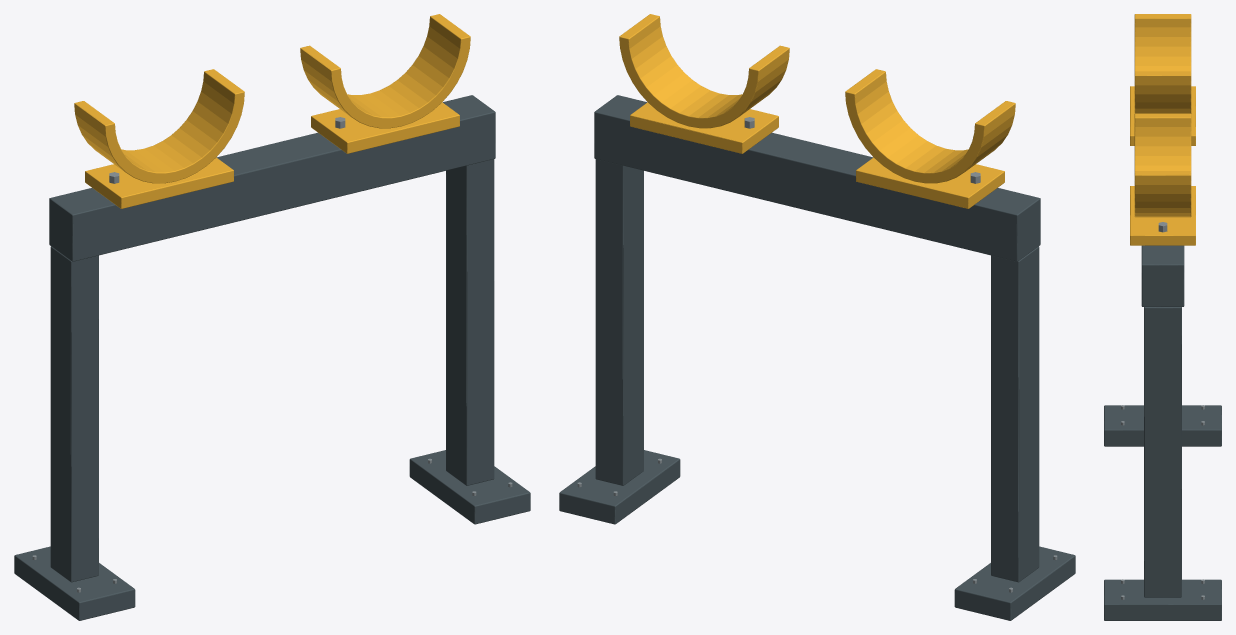
3 renders of one model, left to right at view 1: azimuth 30°, elevation 25°; view 2: azimuth 150°, elevation 25°; view 3: azimuth 270°, elevation 25°, orthographic. The views are drawn at different scales.
Parts seen in each view (by area): view 1: SM_NPP_PipeSupport_2m_A; view 2: SM_NPP_PipeSupport_2m_A; view 3: SM_NPP_PipeSupport_2m_A.
Boxes of the visible parts, x1=… form: SM_NPP_PipeSupport_2m_A: x1=14, y1=14, x2=530, y2=620; SM_NPP_PipeSupport_2m_A: x1=559, y1=14, x2=1075, y2=620; SM_NPP_PipeSupport_2m_A: x1=1104, y1=14, x2=1221, y2=620.
Bounding box in the file's own units: 2 × 2 × 0.5.
